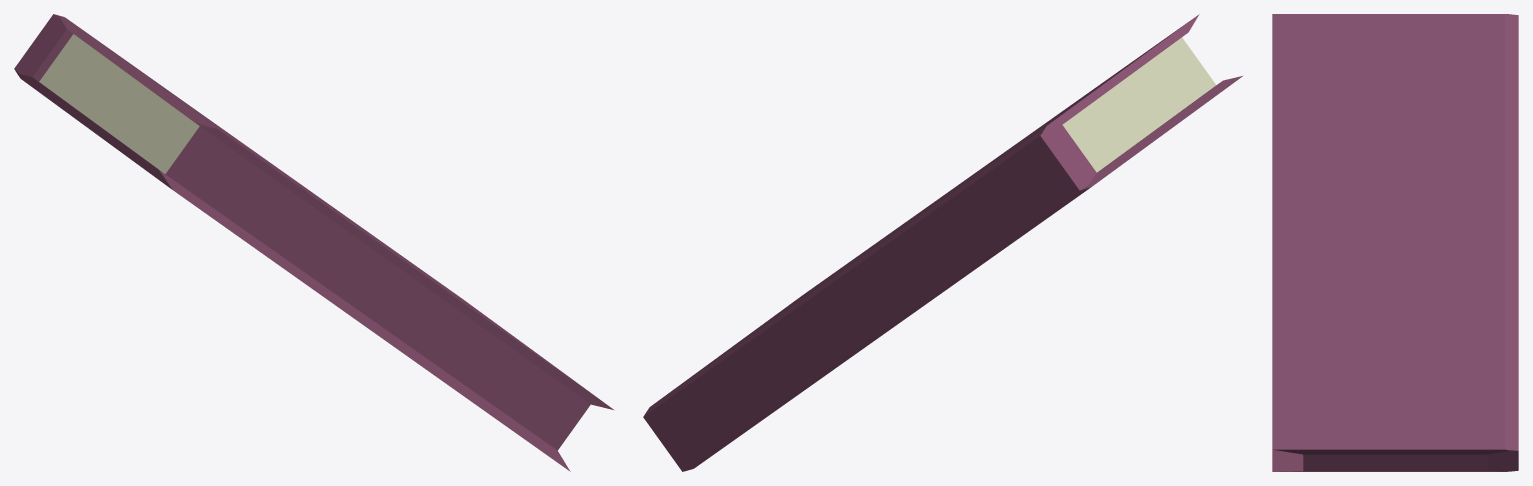
Rendered from Book1_Material.fbx.
The picture shows the model from 3 angles, left to right: view 1: azimuth 30°, elevation 25°; view 2: azimuth 150°, elevation 25°; view 3: azimuth 270°, elevation 25°; orthographic projection. The views are drawn at different scales.
Parts seen in each view (by area): view 1: Book.009; view 2: Book.009; view 3: Book.009.
Boxes of the visible parts, x1=… form: Book.009: x1=14, y1=14, x2=614, y2=471; Book.009: x1=643, y1=14, x2=1243, y2=471; Book.009: x1=1272, y1=14, x2=1518, y2=471.
Bounding box in the file's own units: 0.1623 × 0.1508 × 0.103.
